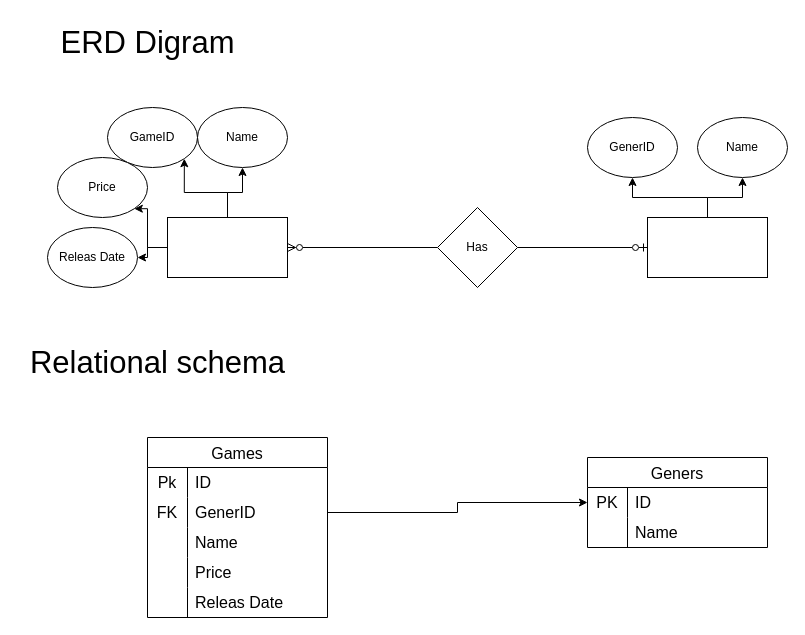
The diagram is 805 pixels wide and 635 high, and some of its shapes have lost their labels. Each missing label, with the centre of its shape:
"Game" belongs at point 227,247.
"Gener" belongs at point 707,247.
